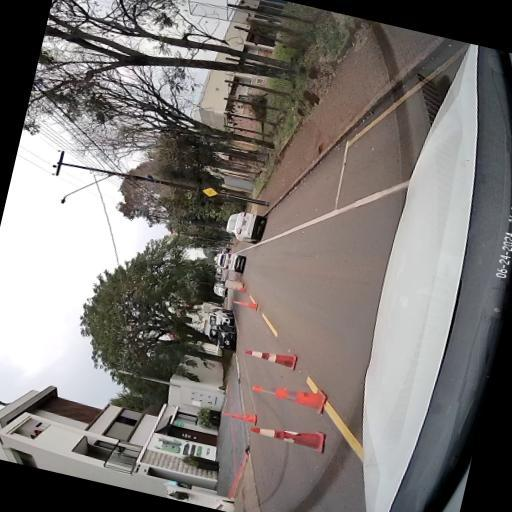A-18: (201, 184, 220, 198)
